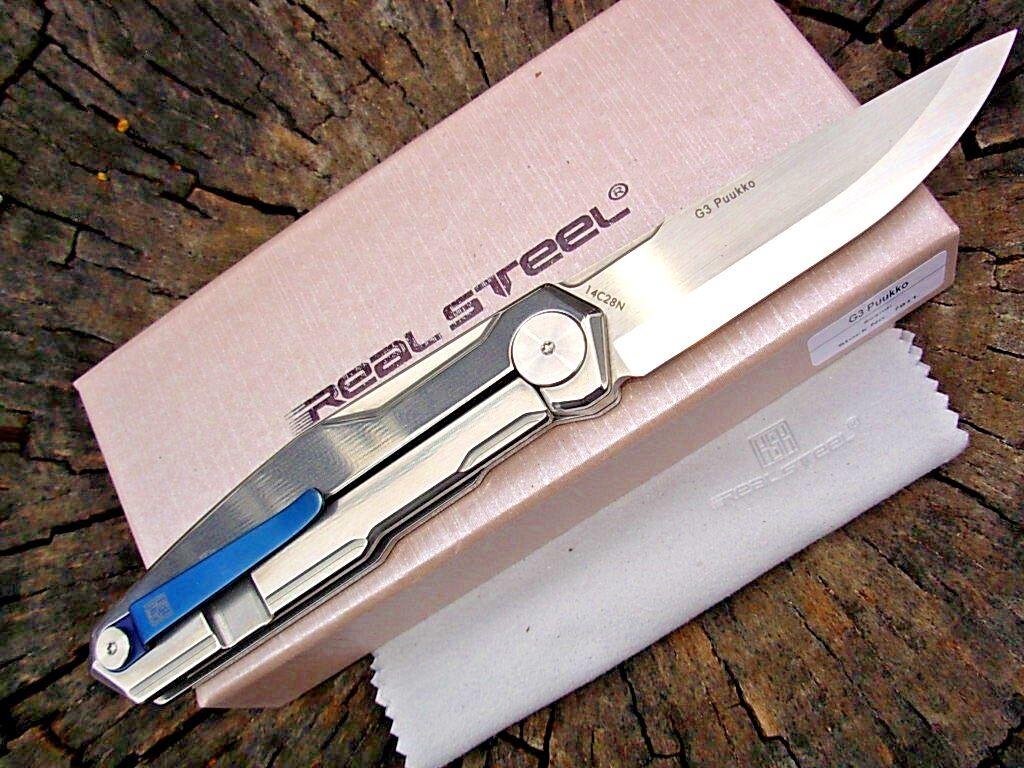knief: (110, 32, 1020, 698)
